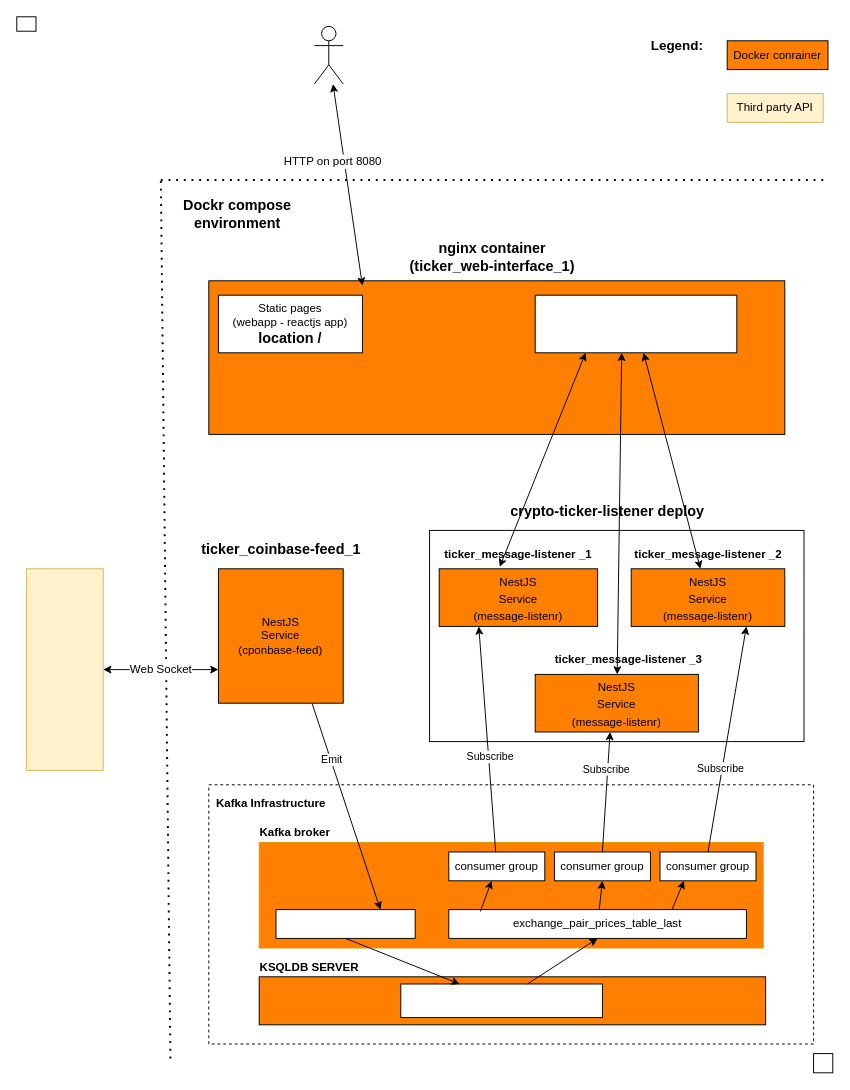
Some shapes in this 850 by 1090 pixel diagram are drawn without their labels. Here are the shapes that lost their labels. From the top down, the box of each, then its label:
(313, 25, 343, 84): web browser
(534, 294, 737, 353): Load balancer location /api
(25, 568, 103, 770): Coinbase API
(275, 909, 415, 938): events.exchange.ticker
(400, 983, 602, 1018): Read, aggregate and emit group by, window thumbling 10 sec
